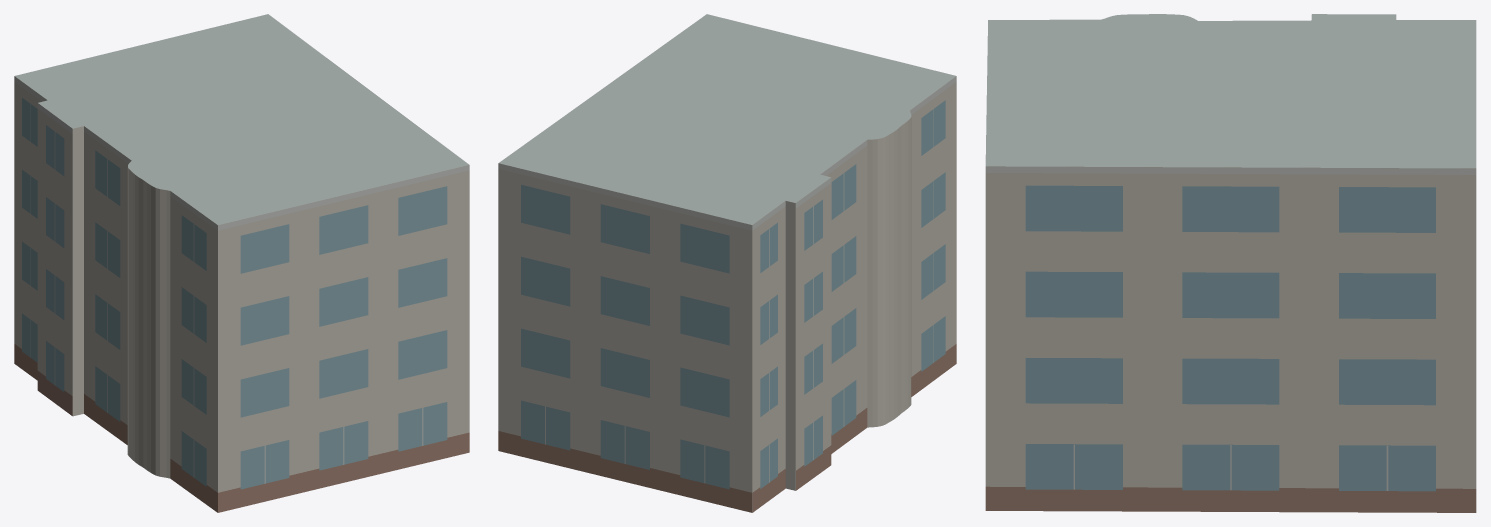
Rendered from survey-upis-32771293.glb.
3 renders of one model, left to right at view 1: azimuth 30°, elevation 25°; view 2: azimuth 150°, elevation 25°; view 3: azimuth 270°, elevation 25°, orthographic. The views are drawn at different scales.
Parts seen in each view (by area): view 1: survey-upis-32771293.tmp; view 2: survey-upis-32771293.tmp; view 3: survey-upis-32771293.tmp.
Part boxes in pixels (x1,y1,x2,y2): survey-upis-32771293.tmp: [14, 14, 469, 512]; survey-upis-32771293.tmp: [498, 14, 956, 512]; survey-upis-32771293.tmp: [985, 14, 1476, 512].
Size of the model in its own units: 12.37 by 12.85 by 16.6.
